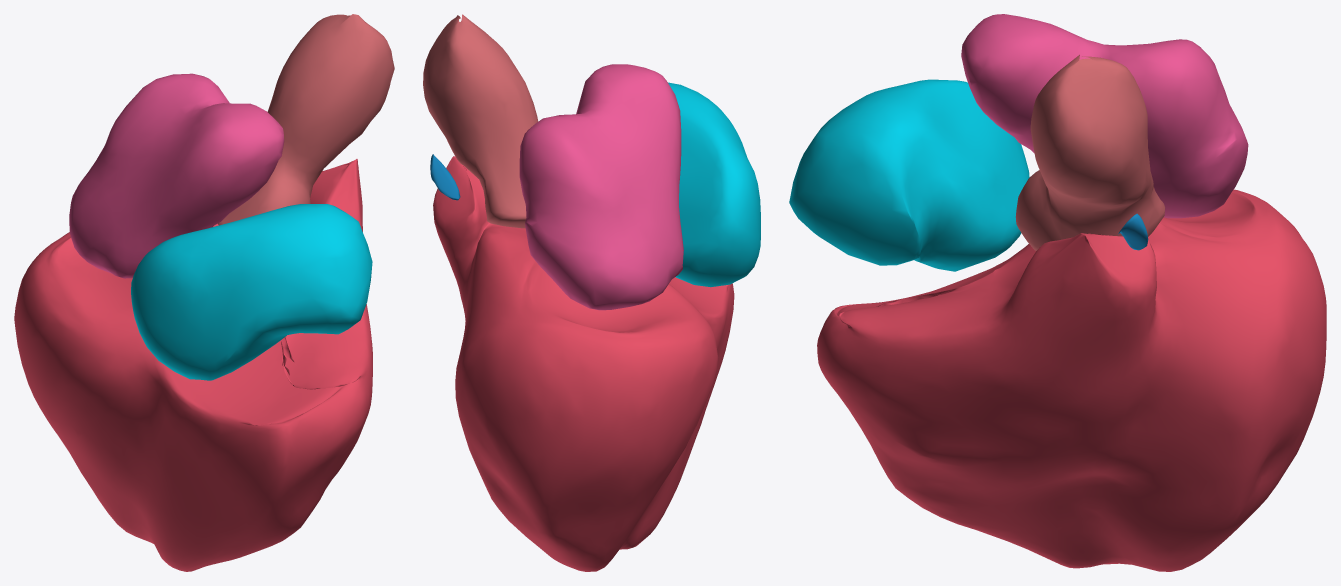
The model's file is frame_32.glb.
The picture shows the model from 3 angles, left to right: view 1: azimuth 30°, elevation 25°; view 2: azimuth 150°, elevation 25°; view 3: azimuth 270°, elevation 25°; orthographic projection. The views are drawn at different scales.
Parts seen in each view (by area): view 1: Renderer Node; view 2: Renderer Node; view 3: Renderer Node.
Part boxes in pixels (x1,y1,x2,y2): Renderer Node: (14,14,394,571); Renderer Node: (423,14,760,571); Renderer Node: (789,14,1326,571).
Size of the model in its own units: 101 by 156 by 124.
